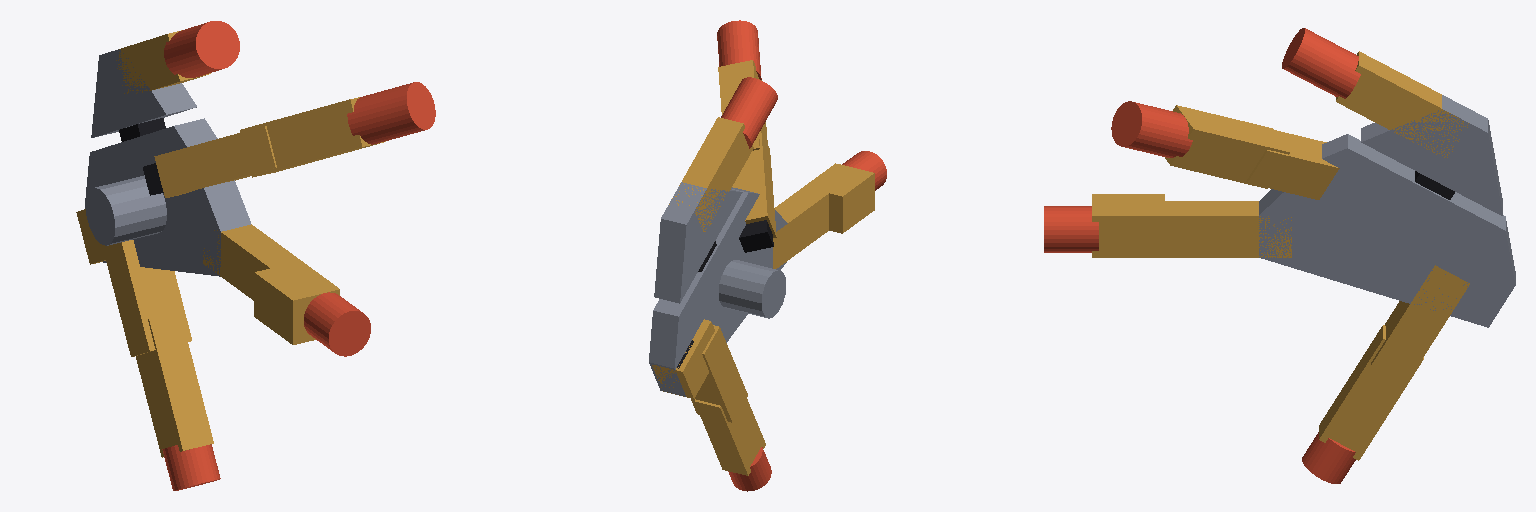
The robot description file, URDF, robot "g0062_c08":
<robot name="g0062_c08">
  <link name="palm">
    <visual name="palm_palm1">
      <origin xyz="0 0 0" rpy="0 0 0" />
      <geometry>
        <mesh filename="palm_palm1.obj" />
      </geometry>
      <material name="palm_palm1_mat">
        <color rgba="0.55 0.57 0.62 1" />
      </material>
    </visual>
    <collision>
      <origin xyz="0 0 0" rpy="0 0 0" />
      <geometry>
        <mesh filename="palm_palm1.obj" />
      </geometry>
    </collision>
    <visual name="palm_mount2">
      <origin xyz="0 0 0" rpy="0 0 0" />
      <geometry>
        <mesh filename="palm_mount2.obj" />
      </geometry>
      <material name="palm_mount2_mat">
        <color rgba="0.55 0.57 0.62 1" />
      </material>
    </visual>
    <collision>
      <origin xyz="0 0 0" rpy="0 0 0" />
      <geometry>
        <mesh filename="palm_mount2.obj" />
      </geometry>
    </collision>
    <visual name="palm_hinge3">
      <origin xyz="0 0.029910254 0.0318060797" rpy="-1.57079633 0.523598776 1.57079633" />
      <geometry>
        <box size="0.029 0.034 0.02" />
      </geometry>
      <material name="palm_hinge3_mat">
        <color rgba="0.15 0.15 0.17 1" />
      </material>
    </visual>
    <collision>
      <origin xyz="0 0.029910254 0.0318060797" rpy="-1.57079633 0.523598776 1.57079633" />
      <geometry>
        <box size="0.029 0.034 0.02" />
      </geometry>
    </collision>
    <visual name="palm_motor4">
      <origin xyz="0 -0.0725 1.37772765e-18" rpy="-0 -1.57079633 0" />
      <geometry>
        <box size="0.029 0.034 0.02" />
      </geometry>
      <material name="palm_motor4_mat">
        <color rgba="0.15 0.15 0.17 1" />
      </material>
    </visual>
    <collision>
      <origin xyz="0 -0.0725 1.37772765e-18" rpy="-0 -1.57079633 0" />
      <geometry>
        <box size="0.029 0.034 0.02" />
      </geometry>
    </collision>
    <visual name="palm_motor5">
      <origin xyz="-0.0117894192 -0.034375 0.0367524047" rpy="-0.463647609 0.252680255 0.463647609" />
      <geometry>
        <box size="0.029 0.034 0.02" />
      </geometry>
      <material name="palm_motor5_mat">
        <color rgba="0.15 0.15 0.17 1" />
      </material>
    </visual>
    <collision>
      <origin xyz="-0.0117894192 -0.034375 0.0367524047" rpy="-0.463647609 0.252680255 0.463647609" />
      <geometry>
        <box size="0.029 0.034 0.02" />
      </geometry>
    </collision>
    <visual name="palm_motor6">
      <origin xyz="-0.0045 0.0666996732 -0.0467548095" rpy="1.57079633 -0.523598776 -1.57079633" />
      <geometry>
        <box size="0.029 0.034 0.02" />
      </geometry>
      <material name="palm_motor6_mat">
        <color rgba="0.15 0.15 0.17 1" />
      </material>
    </visual>
    <collision>
      <origin xyz="-0.0045 0.0666996732 -0.0467548095" rpy="1.57079633 -0.523598776 -1.57079633" />
      <geometry>
        <box size="0.029 0.034 0.02" />
      </geometry>
    </collision>
    <inertial>
      <origin xyz="0 0.000674348695 -0.00216540057" rpy="1.57079633 0.386379343 1.57079633" />
      <mass value="0.637737545" />
      <inertia ixx="0.000444871722" ixy="0" ixz="0" iyy="0.00158020903" iyz="0" izz="0.00196385795" />
    </inertial>
  </link>
  <link name="palm0">
    <visual name="palm0_palm1">
      <origin xyz="0 0 0" rpy="0 0 0" />
      <geometry>
        <mesh filename="palm0_palm1.obj" />
      </geometry>
      <material name="palm0_palm1_mat">
        <color rgba="0.55 0.57 0.62 1" />
      </material>
    </visual>
    <collision>
      <origin xyz="0 0 0" rpy="0 0 0" />
      <geometry>
        <mesh filename="palm0_palm1.obj" />
      </geometry>
    </collision>
    <visual name="palm0_motor2">
      <origin xyz="0 0.0128349365 0.0379487298" rpy="-1.57079633 -1.04719755 1.57079633" />
      <geometry>
        <box size="0.029 0.034 0.02" />
      </geometry>
      <material name="palm0_motor2_mat">
        <color rgba="0.15 0.15 0.17 1" />
      </material>
    </visual>
    <collision>
      <origin xyz="0 0.0128349365 0.0379487298" rpy="-1.57079633 -1.04719755 1.57079633" />
      <geometry>
        <box size="0.029 0.034 0.02" />
      </geometry>
    </collision>
    <inertial>
      <origin xyz="-3.6997202e-19 0.00742753656 0.0253613839" rpy="1.57079633 0.549123212 1.57079633" />
      <mass value="0.166939162" />
      <inertia ixx="4.16872378e-05" ixy="0" ixz="0" iyy="0.000112402169" iyz="0" izz="0.000138063247" />
    </inertial>
  </link>
  <link name="f0_link0">
    <visual name="f0_link0_link1">
      <origin xyz="0.04375 0 0" rpy="0 -0 0" />
      <geometry>
        <box size="0.1115 0.024 0.033" />
      </geometry>
      <material name="f0_link0_link1_mat">
        <color rgba="0.80 0.62 0.30 1" />
      </material>
    </visual>
    <collision>
      <origin xyz="0.04375 0 0" rpy="0 -0 0" />
      <geometry>
        <box size="0.1115 0.024 0.033" />
      </geometry>
    </collision>
    <inertial>
      <origin xyz="0.04375 0 0" rpy="0 0 0" />
      <mass value="0.154539" />
      <inertia ixx="2.14422863e-05" ixy="0" ixz="0" iyy="0.000174130038" iyz="0" izz="0.000167523496" />
    </inertial>
  </link>
  <link name="f0_link1">
    <visual name="f0_link1_link1">
      <origin xyz="0.014 -0.00625 3.08148791e-33" rpy="0 -0 0" />
      <geometry>
        <box size="0.052 0.0365 0.033" />
      </geometry>
      <material name="f0_link1_link1_mat">
        <color rgba="0.80 0.62 0.30 1" />
      </material>
    </visual>
    <collision>
      <origin xyz="0.014 -0.00625 3.08148791e-33" rpy="0 -0 0" />
      <geometry>
        <box size="0.052 0.0365 0.033" />
      </geometry>
    </collision>
    <inertial>
      <origin xyz="0.014 -0.00625 0" rpy="0 0 0" />
      <mass value="0.1096095" />
      <inertia ixx="2.21160002e-05" ixy="0" ixz="0" iyy="3.46457361e-05" iyz="0" izz="3.6867612e-05" />
    </inertial>
  </link>
  <link name="f0_link2">
    <visual name="f0_link2_link1">
      <origin xyz="0.024 0 0" rpy="-1.57079633 -0 -1.57079633" />
      <geometry>
        <cylinder radius="0.0165" length="0.039" />
      </geometry>
      <material name="f0_link2_link1_mat">
        <color rgba="0.85 0.35 0.25 1" />
      </material>
    </visual>
    <collision>
      <origin xyz="0.024 0 0" rpy="-1.57079633 -0 -1.57079633" />
      <geometry>
        <cylinder radius="0.0165" length="0.039" />
      </geometry>
    </collision>
    <inertial>
      <origin xyz="0.024 0 0" rpy="0 0 0" />
      <mass value="0.0913031255" />
      <inertia ixx="1.1532146e-05" ixy="0" ixz="0" iyy="3.54254069e-05" iyz="0" izz="3.54254069e-05" />
    </inertial>
  </link>
  <link name="f1_link0">
    <visual name="f1_link0_link1">
      <origin xyz="0.03375 0 3.46944695e-18" rpy="0 5.83273575e-17 6.5670397e-17" />
      <geometry>
        <box size="0.0915 0.033 0.029" />
      </geometry>
      <material name="f1_link0_link1_mat">
        <color rgba="0.80 0.62 0.30 1" />
      </material>
    </visual>
    <collision>
      <origin xyz="0.03375 0 3.46944695e-18" rpy="0 5.83273575e-17 6.5670397e-17" />
      <geometry>
        <box size="0.0915 0.033 0.029" />
      </geometry>
    </collision>
    <inertial>
      <origin xyz="0.03375 0 0" rpy="0 0 0" />
      <mass value="0.153239625" />
      <inertia ixx="2.46460397e-05" ixy="0" ixz="0" iyy="0.000117652915" iyz="0" izz="0.000120819867" />
    </inertial>
  </link>
  <link name="f1_link1">
    <visual name="f1_link1_link1">
      <origin xyz="0.03375 6.9388939e-18 3.46944695e-18" rpy="0 5.83273575e-17 6.5670397e-17" />
      <geometry>
        <box size="0.0915 0.029 0.033" />
      </geometry>
      <material name="f1_link1_link1_mat">
        <color rgba="0.80 0.62 0.30 1" />
      </material>
    </visual>
    <collision>
      <origin xyz="0.03375 6.9388939e-18 3.46944695e-18" rpy="0 5.83273575e-17 6.5670397e-17" />
      <geometry>
        <box size="0.0915 0.029 0.033" />
      </geometry>
    </collision>
    <inertial>
      <origin xyz="0.03375 0 0" rpy="0 0 0" />
      <mass value="0.153239625" />
      <inertia ixx="2.46460397e-05" ixy="0" ixz="0" iyy="0.000120819867" iyz="0" izz="0.000117652915" />
    </inertial>
  </link>
  <link name="f1_link2">
    <visual name="f1_link2_link1">
      <origin xyz="0.029 -1.04083409e-17 -9.54097912e-18" rpy="-1.57079633 -0 -1.57079633" />
      <geometry>
        <cylinder radius="0.0165" length="0.049" />
      </geometry>
      <material name="f1_link2_link1_mat">
        <color rgba="0.85 0.35 0.25 1" />
      </material>
    </visual>
    <collision>
      <origin xyz="0.029 -1.04083409e-17 -9.54097912e-18" rpy="-1.57079633 -0 -1.57079633" />
      <geometry>
        <cylinder radius="0.0165" length="0.049" />
      </geometry>
    </collision>
    <inertial>
      <origin xyz="0.029 0 0" rpy="0 0 0" />
      <mass value="0.106270851" />
      <inertia ixx="1.35696277e-05" ixy="0" ixz="0" iyy="5.30015704e-05" iyz="0" izz="5.30015704e-05" />
    </inertial>
  </link>
  <link name="f2_link0">
    <visual name="f2_link0_link1">
      <origin xyz="-0.00625 0 -0.0165" rpy="0 4.06369831e-17 0" />
      <geometry>
        <box size="0.0365 0.029 0.053" />
      </geometry>
      <material name="f2_link0_link1_mat">
        <color rgba="0.80 0.62 0.30 1" />
      </material>
    </visual>
    <collision>
      <origin xyz="-0.00625 0 -0.0165" rpy="0 4.06369831e-17 0" />
      <geometry>
        <box size="0.0365 0.029 0.053" />
      </geometry>
    </collision>
    <inertial>
      <origin xyz="-0.00625 0 -0.0165" rpy="0 0 0" />
      <mass value="0.098175875" />
      <inertia ixx="2.98618286e-05" ixy="0" ixz="0" iyy="3.38809035e-05" iyz="0" izz="1.778006e-05" />
    </inertial>
  </link>
  <link name="f2_link1">
    <visual name="f2_link1_link1">
      <origin xyz="0.03375 0 6.9388939e-18" rpy="0 4.06369831e-17 0" />
      <geometry>
        <box size="0.0915 0.033 0.029" />
      </geometry>
      <material name="f2_link1_link1_mat">
        <color rgba="0.80 0.62 0.30 1" />
      </material>
    </visual>
    <collision>
      <origin xyz="0.03375 0 6.9388939e-18" rpy="0 4.06369831e-17 0" />
      <geometry>
        <box size="0.0915 0.033 0.029" />
      </geometry>
    </collision>
    <inertial>
      <origin xyz="0.03375 0 0" rpy="0 0 0" />
      <mass value="0.153239625" />
      <inertia ixx="2.46460397e-05" ixy="0" ixz="0" iyy="0.000117652915" iyz="0" izz="0.000120819867" />
    </inertial>
  </link>
  <link name="f2_link2">
    <visual name="f2_link2_link1">
      <origin xyz="0.03375 0 -1.38777878e-17" rpy="0 4.06369831e-17 0" />
      <geometry>
        <box size="0.0915 0.024 0.033" />
      </geometry>
      <material name="f2_link2_link1_mat">
        <color rgba="0.80 0.62 0.30 1" />
      </material>
    </visual>
    <collision>
      <origin xyz="0.03375 0 -1.38777878e-17" rpy="0 4.06369831e-17 0" />
      <geometry>
        <box size="0.0915 0.024 0.033" />
      </geometry>
    </collision>
    <inertial>
      <origin xyz="0.03375 0 0" rpy="0 0 0" />
      <mass value="0.126819" />
      <inertia ixx="1.75961363e-05" ixy="0" ixz="0" iyy="9.99888553e-05" iyz="0" izz="9.45673431e-05" />
    </inertial>
  </link>
  <link name="f2_link3">
    <visual name="f2_link3_link1">
      <origin xyz="0.019 0 6.9388939e-18" rpy="-1.57079633 -0 -1.57079633" />
      <geometry>
        <cylinder radius="0.0165" length="0.029" />
      </geometry>
      <material name="f2_link3_link1_mat">
        <color rgba="0.85 0.35 0.25 1" />
      </material>
    </visual>
    <collision>
      <origin xyz="0.019 0 6.9388939e-18" rpy="-1.57079633 -0 -1.57079633" />
      <geometry>
        <cylinder radius="0.0165" length="0.029" />
      </geometry>
    </collision>
    <inertial>
      <origin xyz="0.019 0 0" rpy="0 0 0" />
      <mass value="0.0763354" />
      <inertia ixx="9.49466441e-06" ixy="0" ixz="0" iyy="2.24143997e-05" iyz="0" izz="2.24143997e-05" />
    </inertial>
  </link>
  <link name="f3_link0">
    <visual name="f3_link0_link1">
      <origin xyz="0.03375 0 0" rpy="0 7.03853194e-17 0" />
      <geometry>
        <box size="0.0915 0.024 0.033" />
      </geometry>
      <material name="f3_link0_link1_mat">
        <color rgba="0.80 0.62 0.30 1" />
      </material>
    </visual>
    <collision>
      <origin xyz="0.03375 0 0" rpy="0 7.03853194e-17 0" />
      <geometry>
        <box size="0.0915 0.024 0.033" />
      </geometry>
    </collision>
    <inertial>
      <origin xyz="0.03375 0 0" rpy="0 0 0" />
      <mass value="0.126819" />
      <inertia ixx="1.75961363e-05" ixy="0" ixz="0" iyy="9.99888553e-05" iyz="0" izz="9.45673431e-05" />
    </inertial>
  </link>
  <link name="f3_link1">
    <visual name="f3_link1_link1">
      <origin xyz="0.029 0 -6.9388939e-18" rpy="-1.57079633 -0 -1.57079633" />
      <geometry>
        <cylinder radius="0.0165" length="0.049" />
      </geometry>
      <material name="f3_link1_link1_mat">
        <color rgba="0.85 0.35 0.25 1" />
      </material>
    </visual>
    <collision>
      <origin xyz="0.029 0 -6.9388939e-18" rpy="-1.57079633 -0 -1.57079633" />
      <geometry>
        <cylinder radius="0.0165" length="0.049" />
      </geometry>
    </collision>
    <inertial>
      <origin xyz="0.029 0 0" rpy="0 0 0" />
      <mass value="0.106270851" />
      <inertia ixx="1.35696277e-05" ixy="0" ixz="0" iyy="5.30015704e-05" iyz="0" izz="5.30015704e-05" />
    </inertial>
  </link>
  <joint name="palm0_joint" type="revolute">
    <parent link="palm" />
    <child link="palm0" />
    <origin xyz="0 0.033660254 0.0383012702" rpy="0 0 0" />
    <axis xyz="0 0.866025404 -0.5" />
    <limit effort="0.5" lower="-0.523598776" upper="0.523598776" velocity="5" />
    <dynamics damping="0.0775033" friction="0" />
  </joint>
  <joint name="f0_j0" type="revolute">
    <parent link="palm" />
    <child link="f0_link0" />
    <origin xyz="0 -0.08 0" rpy="0 1.8369702e-16 -1.57079633" />
    <axis xyz="0 0 1" />
    <limit effort="0.5" lower="-0.523598776" upper="1.57079633" velocity="5" />
    <dynamics damping="0.0775033" friction="0" />
  </joint>
  <joint name="f0_j1" type="revolute">
    <parent link="f0_link0" />
    <child link="f0_link1" />
    <origin xyz="0.09 0 0" rpy="0 0 0" />
    <axis xyz="0 0 1" />
    <limit effort="0.5" lower="-0.523598776" upper="1.57079633" velocity="5" />
    <dynamics damping="0.0775033" friction="0" />
  </joint>
  <joint name="f0_j2" type="revolute">
    <parent link="f0_link1" />
    <child link="f0_link2" />
    <origin xyz="0.03 0 0" rpy="0 0 0" />
    <axis xyz="0 0 1" />
    <limit effort="0.5" lower="-0.523598776" upper="1.57079633" velocity="5" />
    <dynamics damping="0.0775033" friction="0" />
  </joint>
  <joint name="f1_j0" type="revolute">
    <parent link="palm" />
    <child link="f1_link0" />
    <origin xyz="-0.00803941916 -0.04 0.04" rpy="-0.281034902 -0.447832397 -0.982793723" />
    <axis xyz="-0 -1 -6.123234e-17" />
    <limit effort="0.5" lower="-0.523598776" upper="0.523598776" velocity="5" />
    <dynamics damping="0.0775033" friction="0" />
  </joint>
  <joint name="f1_j1" type="revolute">
    <parent link="f1_link0" />
    <child link="f1_link1" />
    <origin xyz="0.07 0 0" rpy="0 0 0" />
    <axis xyz="0 0 1" />
    <limit effort="0.5" lower="-0.523598776" upper="1.57079633" velocity="5" />
    <dynamics damping="0.0775033" friction="0" />
  </joint>
  <joint name="f1_j2" type="revolute">
    <parent link="f1_link1" />
    <child link="f1_link2" />
    <origin xyz="0.07 0 0" rpy="0 0 0" />
    <axis xyz="-0 -1 -6.123234e-17" />
    <limit effort="0.5" lower="-0.523598776" upper="0.523598776" velocity="5" />
    <dynamics damping="0.0775033" friction="0" />
  </joint>
  <joint name="f2_j0" type="revolute">
    <parent link="palm" />
    <child link="f2_link0" />
    <origin xyz="-0.0045 0.04 -0.04" rpy="0 1.04719755 -1.57079633" />
    <axis xyz="0 0 1" />
    <limit effort="0.5" lower="-0.523598776" upper="1.57079633" velocity="5" />
    <dynamics damping="0.0775033" friction="0" />
  </joint>
  <joint name="f2_j1" type="revolute">
    <parent link="f2_link0" />
    <child link="f2_link1" />
    <origin xyz="0 0 0" rpy="0 0 0" />
    <axis xyz="0 1 6.123234e-17" />
    <limit effort="0.5" lower="-0.523598776" upper="0.523598776" velocity="5" />
    <dynamics damping="0.0775033" friction="0" />
  </joint>
  <joint name="f2_j2" type="revolute">
    <parent link="f2_link1" />
    <child link="f2_link2" />
    <origin xyz="0.07 0 0" rpy="0 0 0" />
    <axis xyz="0 0 1" />
    <limit effort="0.5" lower="-0.523598776" upper="1.57079633" velocity="5" />
    <dynamics damping="0.0775033" friction="0" />
  </joint>
  <joint name="f2_j3" type="revolute">
    <parent link="f2_link2" />
    <child link="f2_link3" />
    <origin xyz="0.07 0 0" rpy="0 0 0" />
    <axis xyz="0 0 1" />
    <limit effort="0.5" lower="-0.523598776" upper="1.57079633" velocity="5" />
    <dynamics damping="0.0775033" friction="0" />
  </joint>
  <joint name="f3_j0" type="revolute">
    <parent link="palm0" />
    <child link="f3_link0" />
    <origin xyz="0 0.00633974596 0.0416987298" rpy="-0 -0.523598776 -1.57079633" />
    <axis xyz="0 0 1" />
    <limit effort="0.5" lower="-0.523598776" upper="1.57079633" velocity="5" />
    <dynamics damping="0.0775033" friction="0" />
  </joint>
  <joint name="f3_j1" type="revolute">
    <parent link="f3_link0" />
    <child link="f3_link1" />
    <origin xyz="0.07 0 0" rpy="0 0 0" />
    <axis xyz="0 0 1" />
    <limit effort="0.5" lower="-0.523598776" upper="1.57079633" velocity="5" />
    <dynamics damping="0.0775033" friction="0" />
  </joint>
</robot>

--- What the picture shows (computed from the rendered views, not written in the file) ---
Views: 3 orthographic renders of the robot side by side, from view 1: azimuth 30°, elevation 25°; view 2: azimuth 150°, elevation 25°; view 3: azimuth 270°, elevation 25°.
Model g0062_c08 with 14 links and 13 joints (13 revolute), rooted at palm, posed all joints at 0.
Links seen in each view (by area): view 1: palm, f2_link2, f1_link0, f2_link1, f1_link1, palm0, f0_link1, f1_link2, f0_link0, f3_link1, f0_link2, f3_link0 (+2 smaller); view 2: palm, palm0, f3_link0, f2_link2, f0_link0, f0_link1, f2_link1, f1_link0, f3_link1, f1_link2, f2_link0, f1_link1 (+2 smaller); view 3: palm, palm0, f0_link0, f2_link1, f1_link1, f2_link2, f3_link0, f1_link0, f1_link2, f3_link1, f0_link1, f0_link2 (+1 smaller).
Boxes of the visible links, bbox=[...] form: palm: bbox=[85, 118, 250, 276]; f2_link2: bbox=[136, 311, 213, 457]; f1_link0: bbox=[154, 126, 276, 197]; f2_link1: bbox=[102, 240, 191, 356]; f1_link1: bbox=[240, 97, 385, 177]; palm0: bbox=[91, 49, 196, 137]; f0_link1: bbox=[254, 261, 339, 344]; f1_link2: bbox=[347, 82, 435, 144]; f0_link0: bbox=[203, 224, 316, 300]; f3_link1: bbox=[164, 21, 239, 77]; f0_link2: bbox=[304, 292, 370, 356]; f3_link0: bbox=[116, 30, 210, 93]; palm: bbox=[649, 187, 787, 396]; palm0: bbox=[654, 182, 742, 303]; f3_link0: bbox=[669, 117, 753, 231]; f2_link2: bbox=[694, 398, 765, 475]; f0_link0: bbox=[773, 181, 842, 268]; f0_link1: bbox=[804, 163, 874, 233]; f2_link1: bbox=[691, 325, 747, 422]; f1_link0: bbox=[732, 129, 776, 237]; f3_link1: bbox=[721, 77, 777, 148]; f1_link2: bbox=[717, 20, 761, 79]; f2_link0: bbox=[652, 319, 714, 398]; f1_link1: bbox=[718, 60, 767, 150]; palm: bbox=[1259, 134, 1515, 327]; palm0: bbox=[1361, 95, 1502, 215]; f0_link0: bbox=[1135, 201, 1291, 257]; f2_link1: bbox=[1371, 265, 1469, 384]; f1_link1: bbox=[1165, 105, 1290, 188]; f2_link2: bbox=[1319, 325, 1423, 460]; f3_link0: bbox=[1336, 51, 1468, 157]; f1_link0: bbox=[1246, 130, 1339, 199]; f1_link2: bbox=[1111, 101, 1192, 157]; f3_link1: bbox=[1282, 28, 1360, 98]; f0_link1: bbox=[1092, 194, 1164, 257]; f0_link2: bbox=[1044, 206, 1098, 252].
Size in the robot's own frame: 0.155 by 0.334 by 0.3545 metres.
Meshes: 3 distinct files referenced, 3 mesh visuals loaded (3 OBJ).
